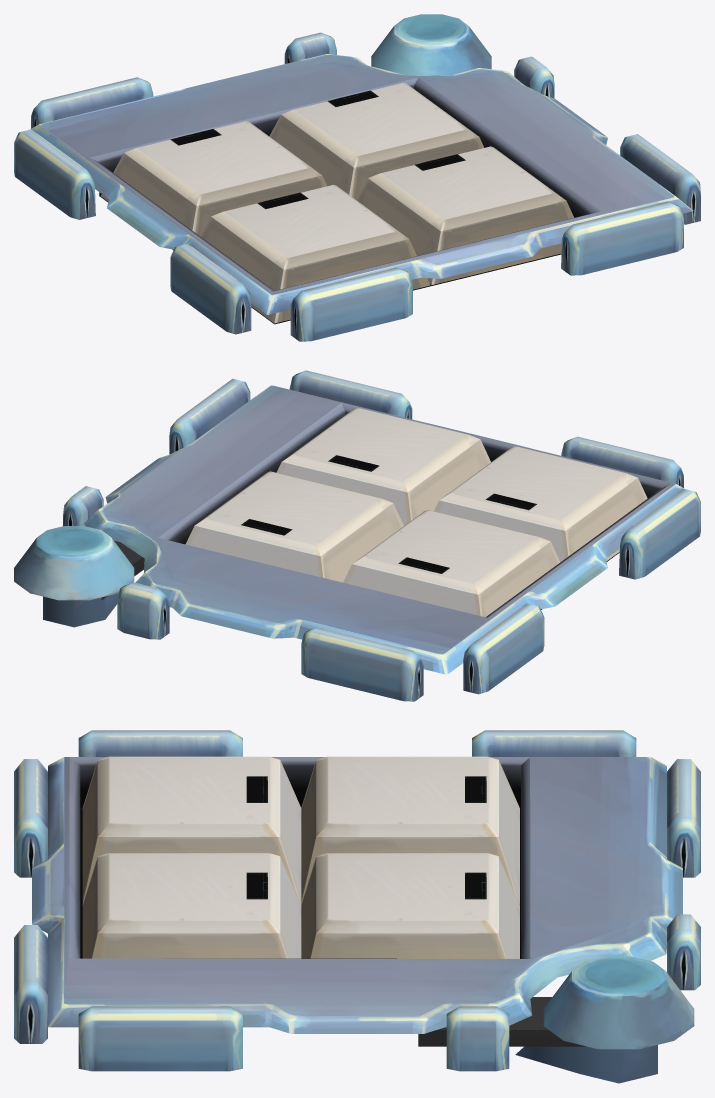
The model's file is Component_Keypad.fbx.
3 views of the same model, one above another, from view 1: azimuth 30°, elevation 25°; view 2: azimuth 150°, elevation 25°; view 3: azimuth 270°, elevation 25° (orthographic). The views are drawn at different scales.
Parts seen in each view (by area): view 1: PuzzleBackground, key (×4), RecessedInner; view 2: PuzzleBackground, key (×4), RecessedInner; view 3: PuzzleBackground, key (×4), RecessedInner, LED (×4).
Boxes of the visible parts, x1,y1,x2,y2 form: PuzzleBackground: (14,14,700,341); key (×4): (101,82,573,323); RecessedInner: (90,77,601,324); PuzzleBackground: (14,370,700,701); key (×4): (185,407,647,617); RecessedInner: (158,403,670,617); PuzzleBackground: (14,730,700,1083); key (×4): (82,756,519,958); RecessedInner: (69,757,530,958); LED (×4): (246,776,486,899).
Size of the model in its own units: 200 by 30.68 by 200.
